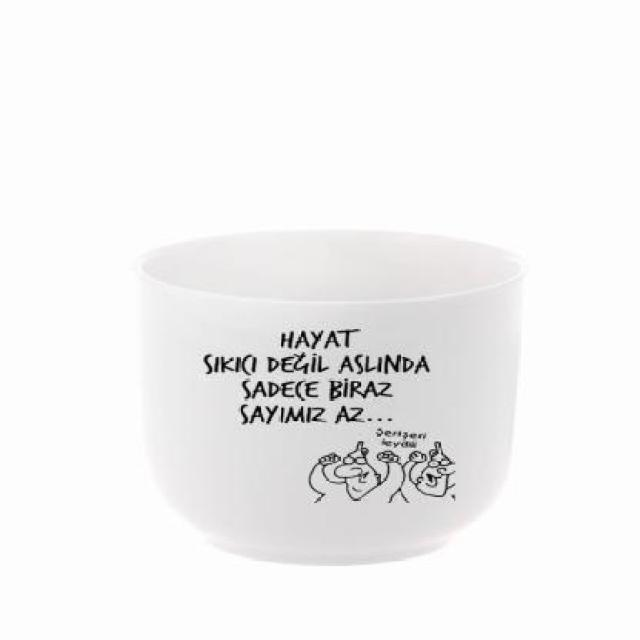taza: (132, 227, 527, 564)
